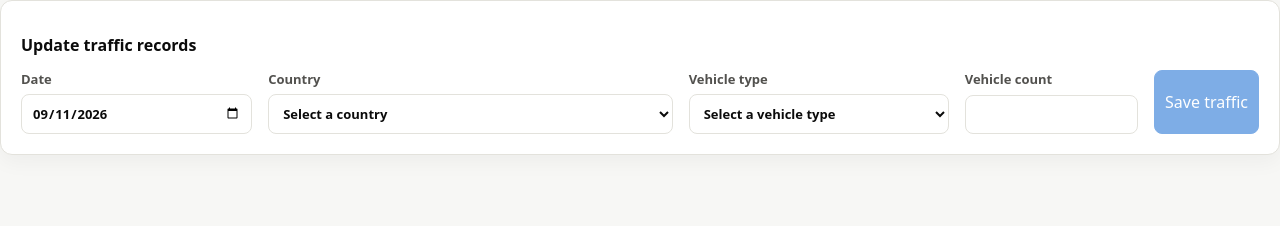
RecordTrafficForm › submits the record once and reports what the server did
The image size is (1280, 226).
Select "United States" in the dropdown labelled "Country" at (470, 114), box [268, 94, 673, 134]
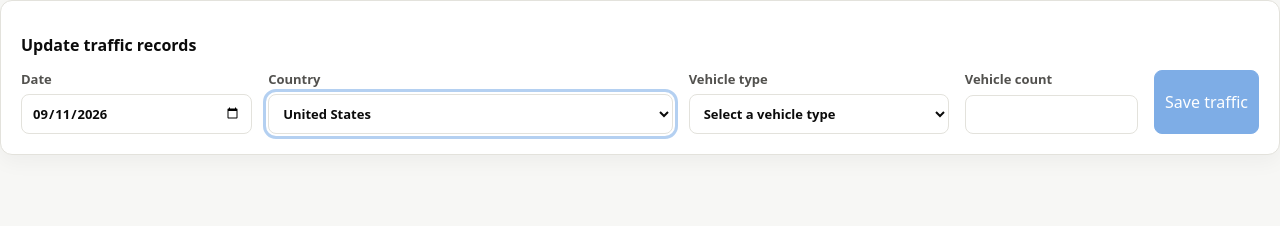
Select "Car" in the dropdown labelled "Vehicle type" at (819, 114), box [689, 94, 949, 134]
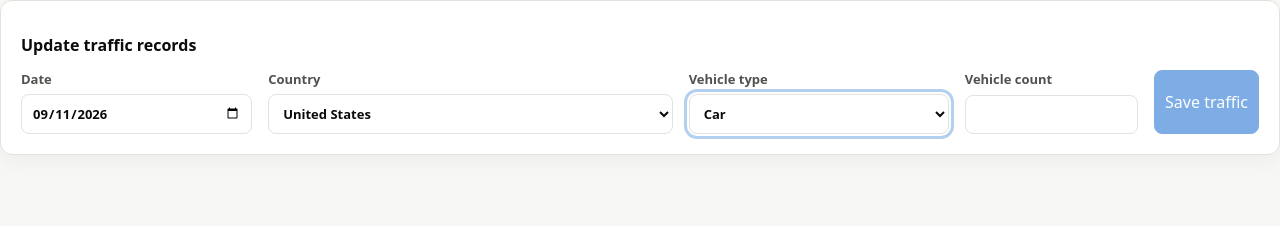
Type "120" into the number field labelled "Vehicle count" at (1051, 114), box [965, 94, 1138, 134]
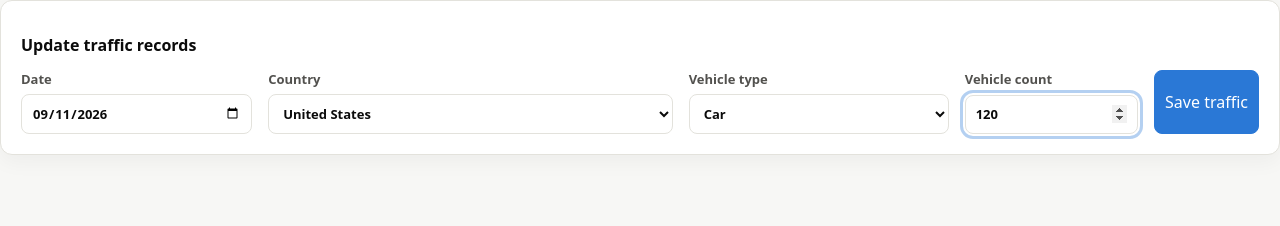
Click the button "Save traffic" at (1207, 102), box [1154, 70, 1259, 134]
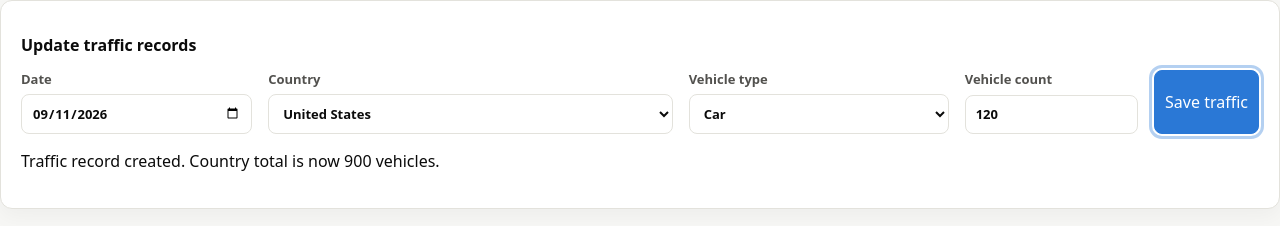
Now the message reads "Traffic record created. Country total is now 900 vehicles.", box [21, 150, 440, 172]
